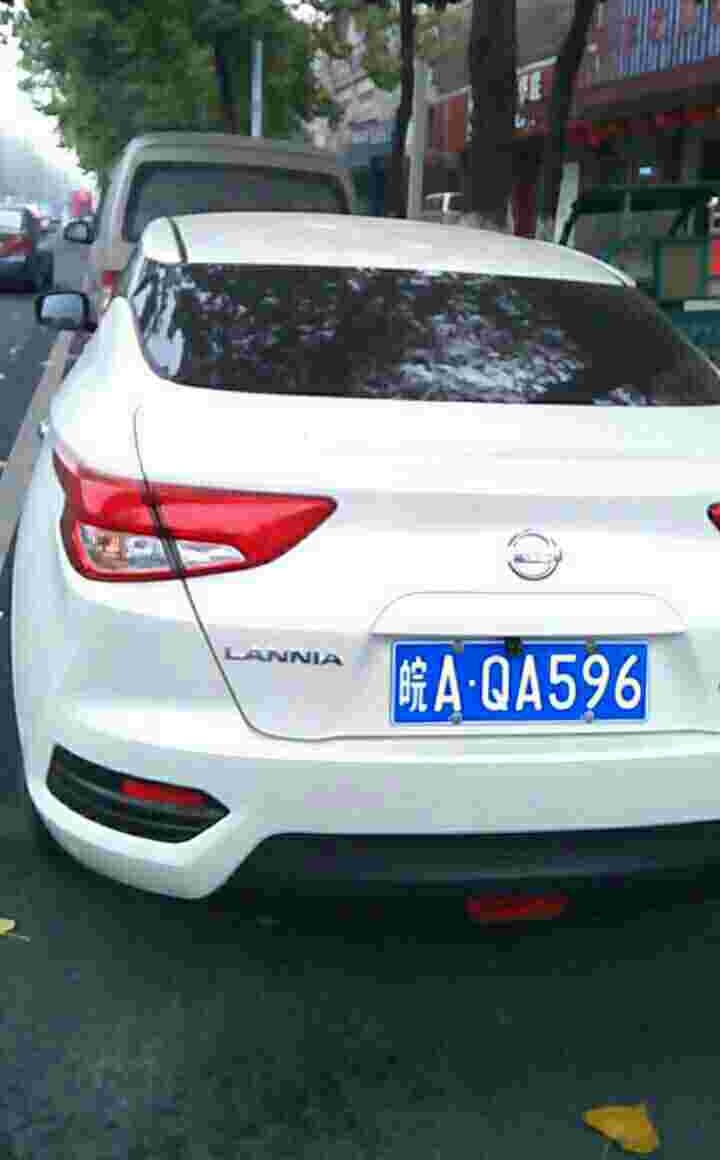license_plate: (387, 648, 653, 723)
